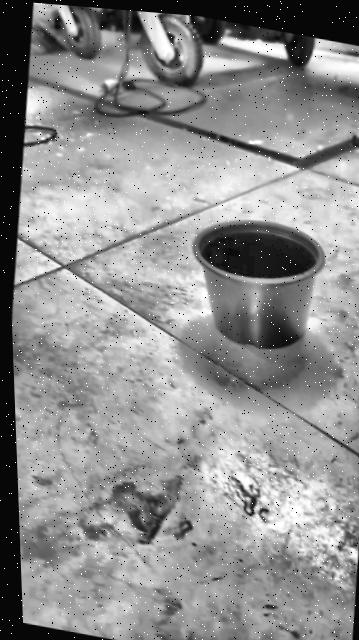pot: (182, 208, 330, 359)
